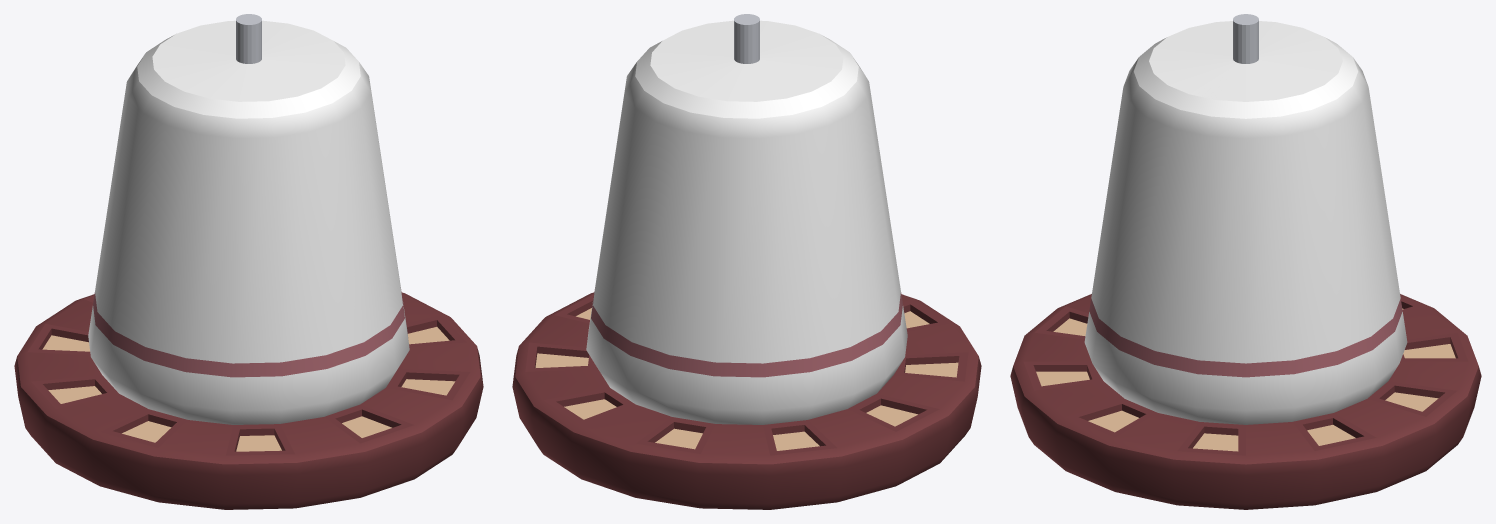
File: ChickenFeeder.fbx
3 views of the same model, side by side, from view 1: azimuth 30°, elevation 25°; view 2: azimuth 150°, elevation 25°; view 3: azimuth 270°, elevation 25° (orthographic).
Visible parts, largest first — view 1: ChickenFeeder; view 2: ChickenFeeder; view 3: ChickenFeeder.
Boxes of the visible parts, x1,y1,x2,y2 form: ChickenFeeder: (14, 14, 483, 509); ChickenFeeder: (512, 14, 981, 509); ChickenFeeder: (1010, 14, 1481, 509).
Size of the model in its own units: 58.57 by 54.8 by 58.57.
